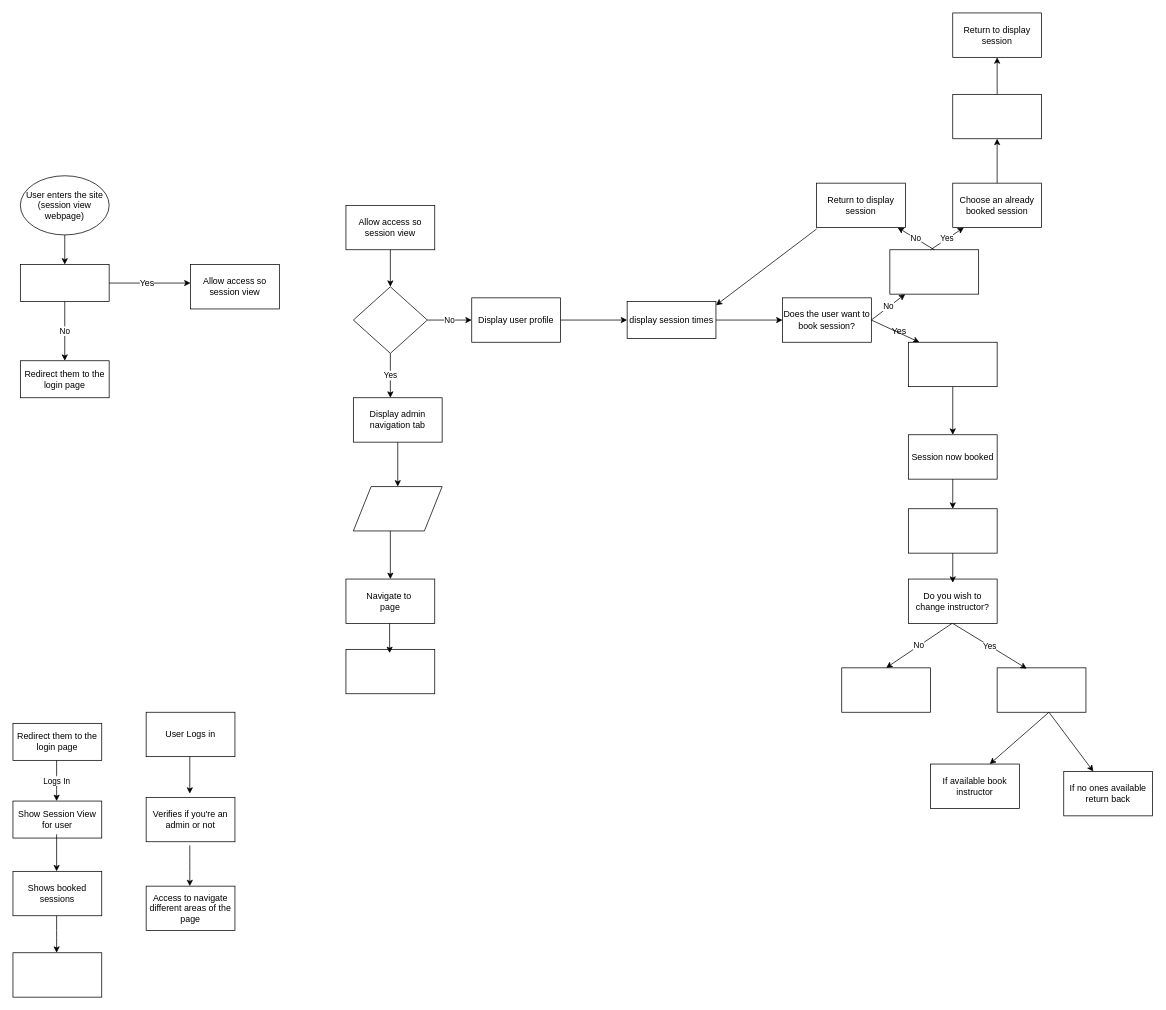
This 1166x1010 diagram has some shape labels left out. Each missing label, with the centre of its shape:
"Able to cancel or book another session" belongs at point 57,974.
"Choose a time frame" belongs at point 952,364.
"Click Navigation option" belongs at point 397,508.
"Display instructor for the session" belongs at point 952,530.
"Does the user want to cancel a session" belongs at point 934,271.
"End" belongs at point 390,671.
"Has the user user Logged In?" belongs at point 64,283.
"Is user an Admin" belongs at point 390,319.
"Return back to display session page" belongs at point 886,689.
"Session Cancelled" belongs at point 997,116.
"Show available instructor" belongs at point 1041,689.
